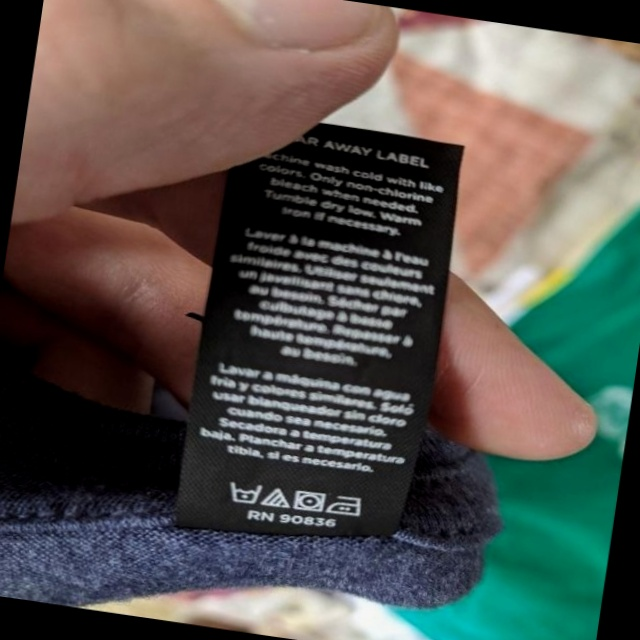30C: (228, 477, 263, 507)
iron_medium: (327, 492, 368, 523)
non_chlorine_bleach: (262, 486, 294, 512)
tumble_dry_low: (293, 488, 331, 518)
